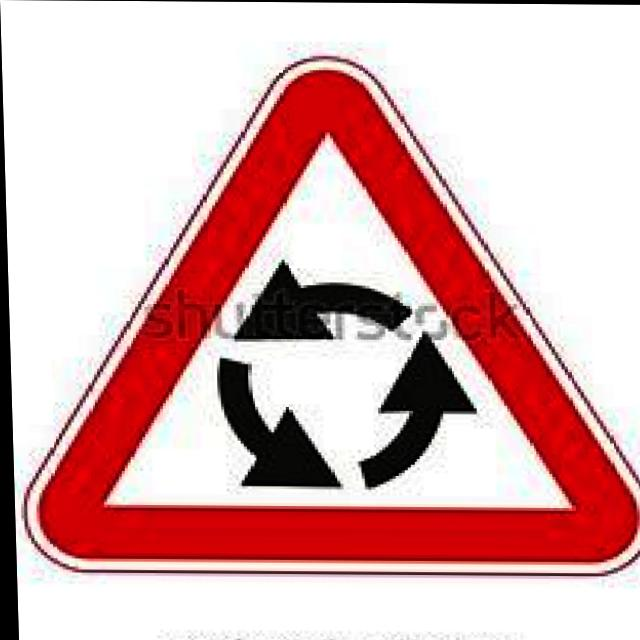ROUNDABOUT: (7, 42, 640, 578)
